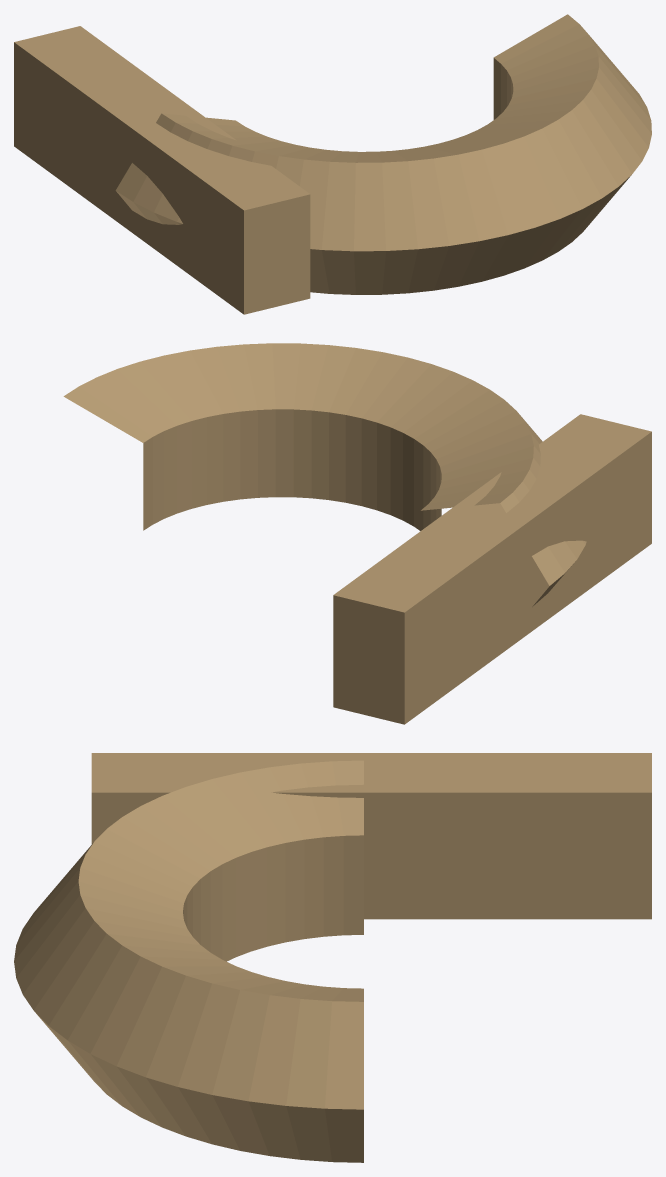
File: road_hairpin_curve.glb
3 views of the same model, one above another, from view 1: azimuth 30°, elevation 25°; view 2: azimuth 150°, elevation 25°; view 3: azimuth 270°, elevation 25° (orthographic). The views are drawn at different scales.
Visible parts, largest first — view 1: road_hairpin_curve; view 2: road_hairpin_curve; view 3: road_hairpin_curve.
Boxes of the visible parts, x1,y1,x2,y2 form: road_hairpin_curve: (14, 14, 651, 314); road_hairpin_curve: (63, 343, 651, 724); road_hairpin_curve: (14, 753, 651, 1162).
Bounding box in the file's own units: 0.9 × 0.2283 × 0.82.
